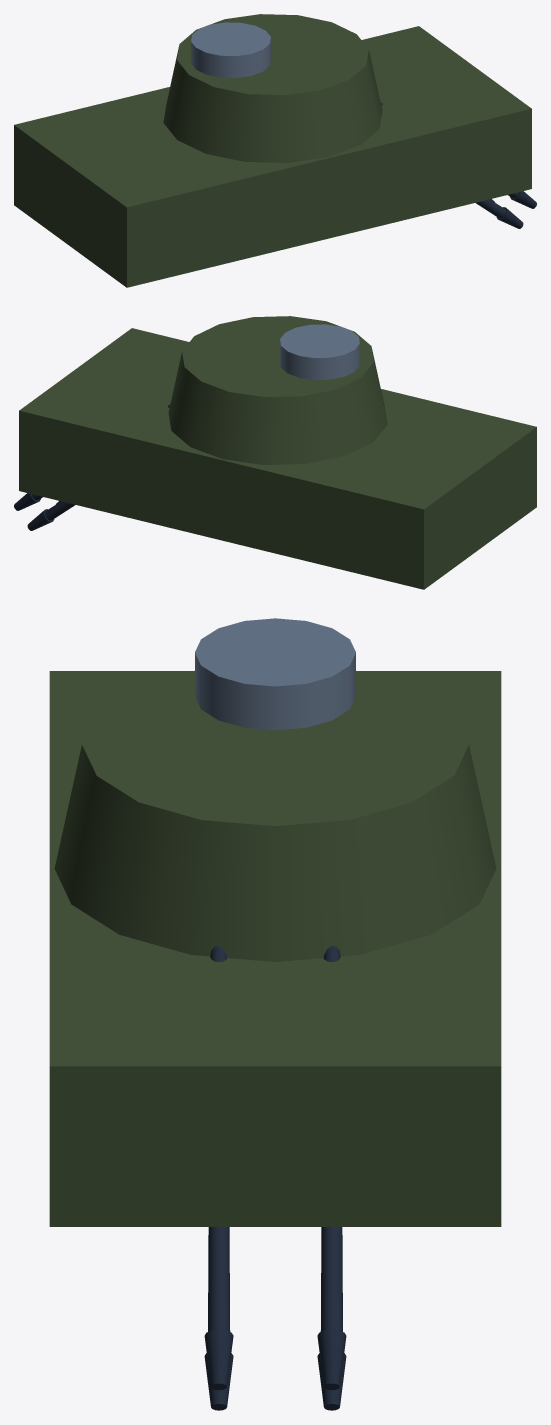
Rendered from aaa_gun.glb.
3 renders of one model, top to bottom at view 1: azimuth 30°, elevation 25°; view 2: azimuth 150°, elevation 25°; view 3: azimuth 270°, elevation 25°, orthographic. The views are drawn at different scales.
Bounding box in the file's own units: 6.47 × 3.36 × 2.8.
